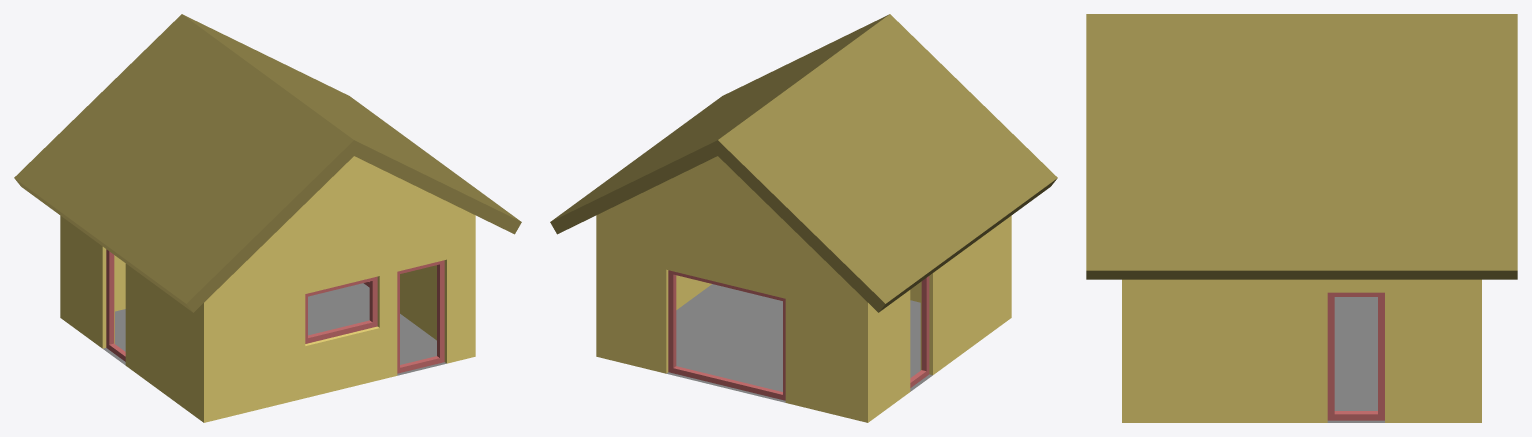
Rendered from result.glb.
3 views of the same model, side by side, from view 1: azimuth 30°, elevation 25°; view 2: azimuth 150°, elevation 25°; view 3: azimuth 270°, elevation 25° (orthographic). The views are drawn at different scales.
Visible parts, largest first — view 1: a913de55-dbf1-499c-b508-3de479cc70e1__undefined (×2), b1c473a8-d715-4d27-9178-8e2836bf581f__undefined, e260135a-70f0-4f49-b9fb-8bbfaadc9ffe__Plane_6, b8f6c664-13f6-4c9c-877f-5128f932e56a__Box, c9c5a770-65c5-4c47-b637-478842eb9a7e__Box_3, fad6de32-98f5-478a-8606-d6ce9f7c9747__Box_12; view 2: a913de55-dbf1-499c-b508-3de479cc70e1__undefined (×2), b1c473a8-d715-4d27-9178-8e2836bf581f__undefined, e260135a-70f0-4f49-b9fb-8bbfaadc9ffe__Plane_6, 366b3491-e576-442b-9ebc-a9ebf982f976__Box_9, fad6de32-98f5-478a-8606-d6ce9f7c9747__Box_12; view 3: a913de55-dbf1-499c-b508-3de479cc70e1__undefined, b1c473a8-d715-4d27-9178-8e2836bf581f__undefined, e260135a-70f0-4f49-b9fb-8bbfaadc9ffe__Plane_6, 8eefc174-2a04-43ef-b6ee-1bbcebefd3a2__Box_15.
Boxes of the visible parts, <box> form: a913de55-dbf1-499c-b508-3de479cc70e1__undefined (×2): <box>14,14,521,312</box>; b1c473a8-d715-4d27-9178-8e2836bf581f__undefined: <box>60,156,475,422</box>; e260135a-70f0-4f49-b9fb-8bbfaadc9ffe__Plane_6: <box>103,283,446,375</box>; b8f6c664-13f6-4c9c-877f-5128f932e56a__Box: <box>397,260,444,373</box>; c9c5a770-65c5-4c47-b637-478842eb9a7e__Box_3: <box>305,276,377,343</box>; fad6de32-98f5-478a-8606-d6ce9f7c9747__Box_12: <box>106,249,125,361</box>; a913de55-dbf1-499c-b508-3de479cc70e1__undefined (×2): <box>550,14,1057,312</box>; b1c473a8-d715-4d27-9178-8e2836bf581f__undefined: <box>596,156,1011,422</box>; e260135a-70f0-4f49-b9fb-8bbfaadc9ffe__Plane_6: <box>666,284,932,402</box>; 366b3491-e576-442b-9ebc-a9ebf982f976__Box_9: <box>668,270,785,400</box>; fad6de32-98f5-478a-8606-d6ce9f7c9747__Box_12: <box>910,276,929,387</box>; a913de55-dbf1-499c-b508-3de479cc70e1__undefined: <box>1086,14,1517,279</box>; b1c473a8-d715-4d27-9178-8e2836bf581f__undefined: <box>1122,279,1481,422</box>; e260135a-70f0-4f49-b9fb-8bbfaadc9ffe__Plane_6: <box>1327,297,1384,422</box>; 8eefc174-2a04-43ef-b6ee-1bbcebefd3a2__Box_15: <box>1327,292,1384,420</box>.
Size of the model in its own units: 675 by 500 by 600.
